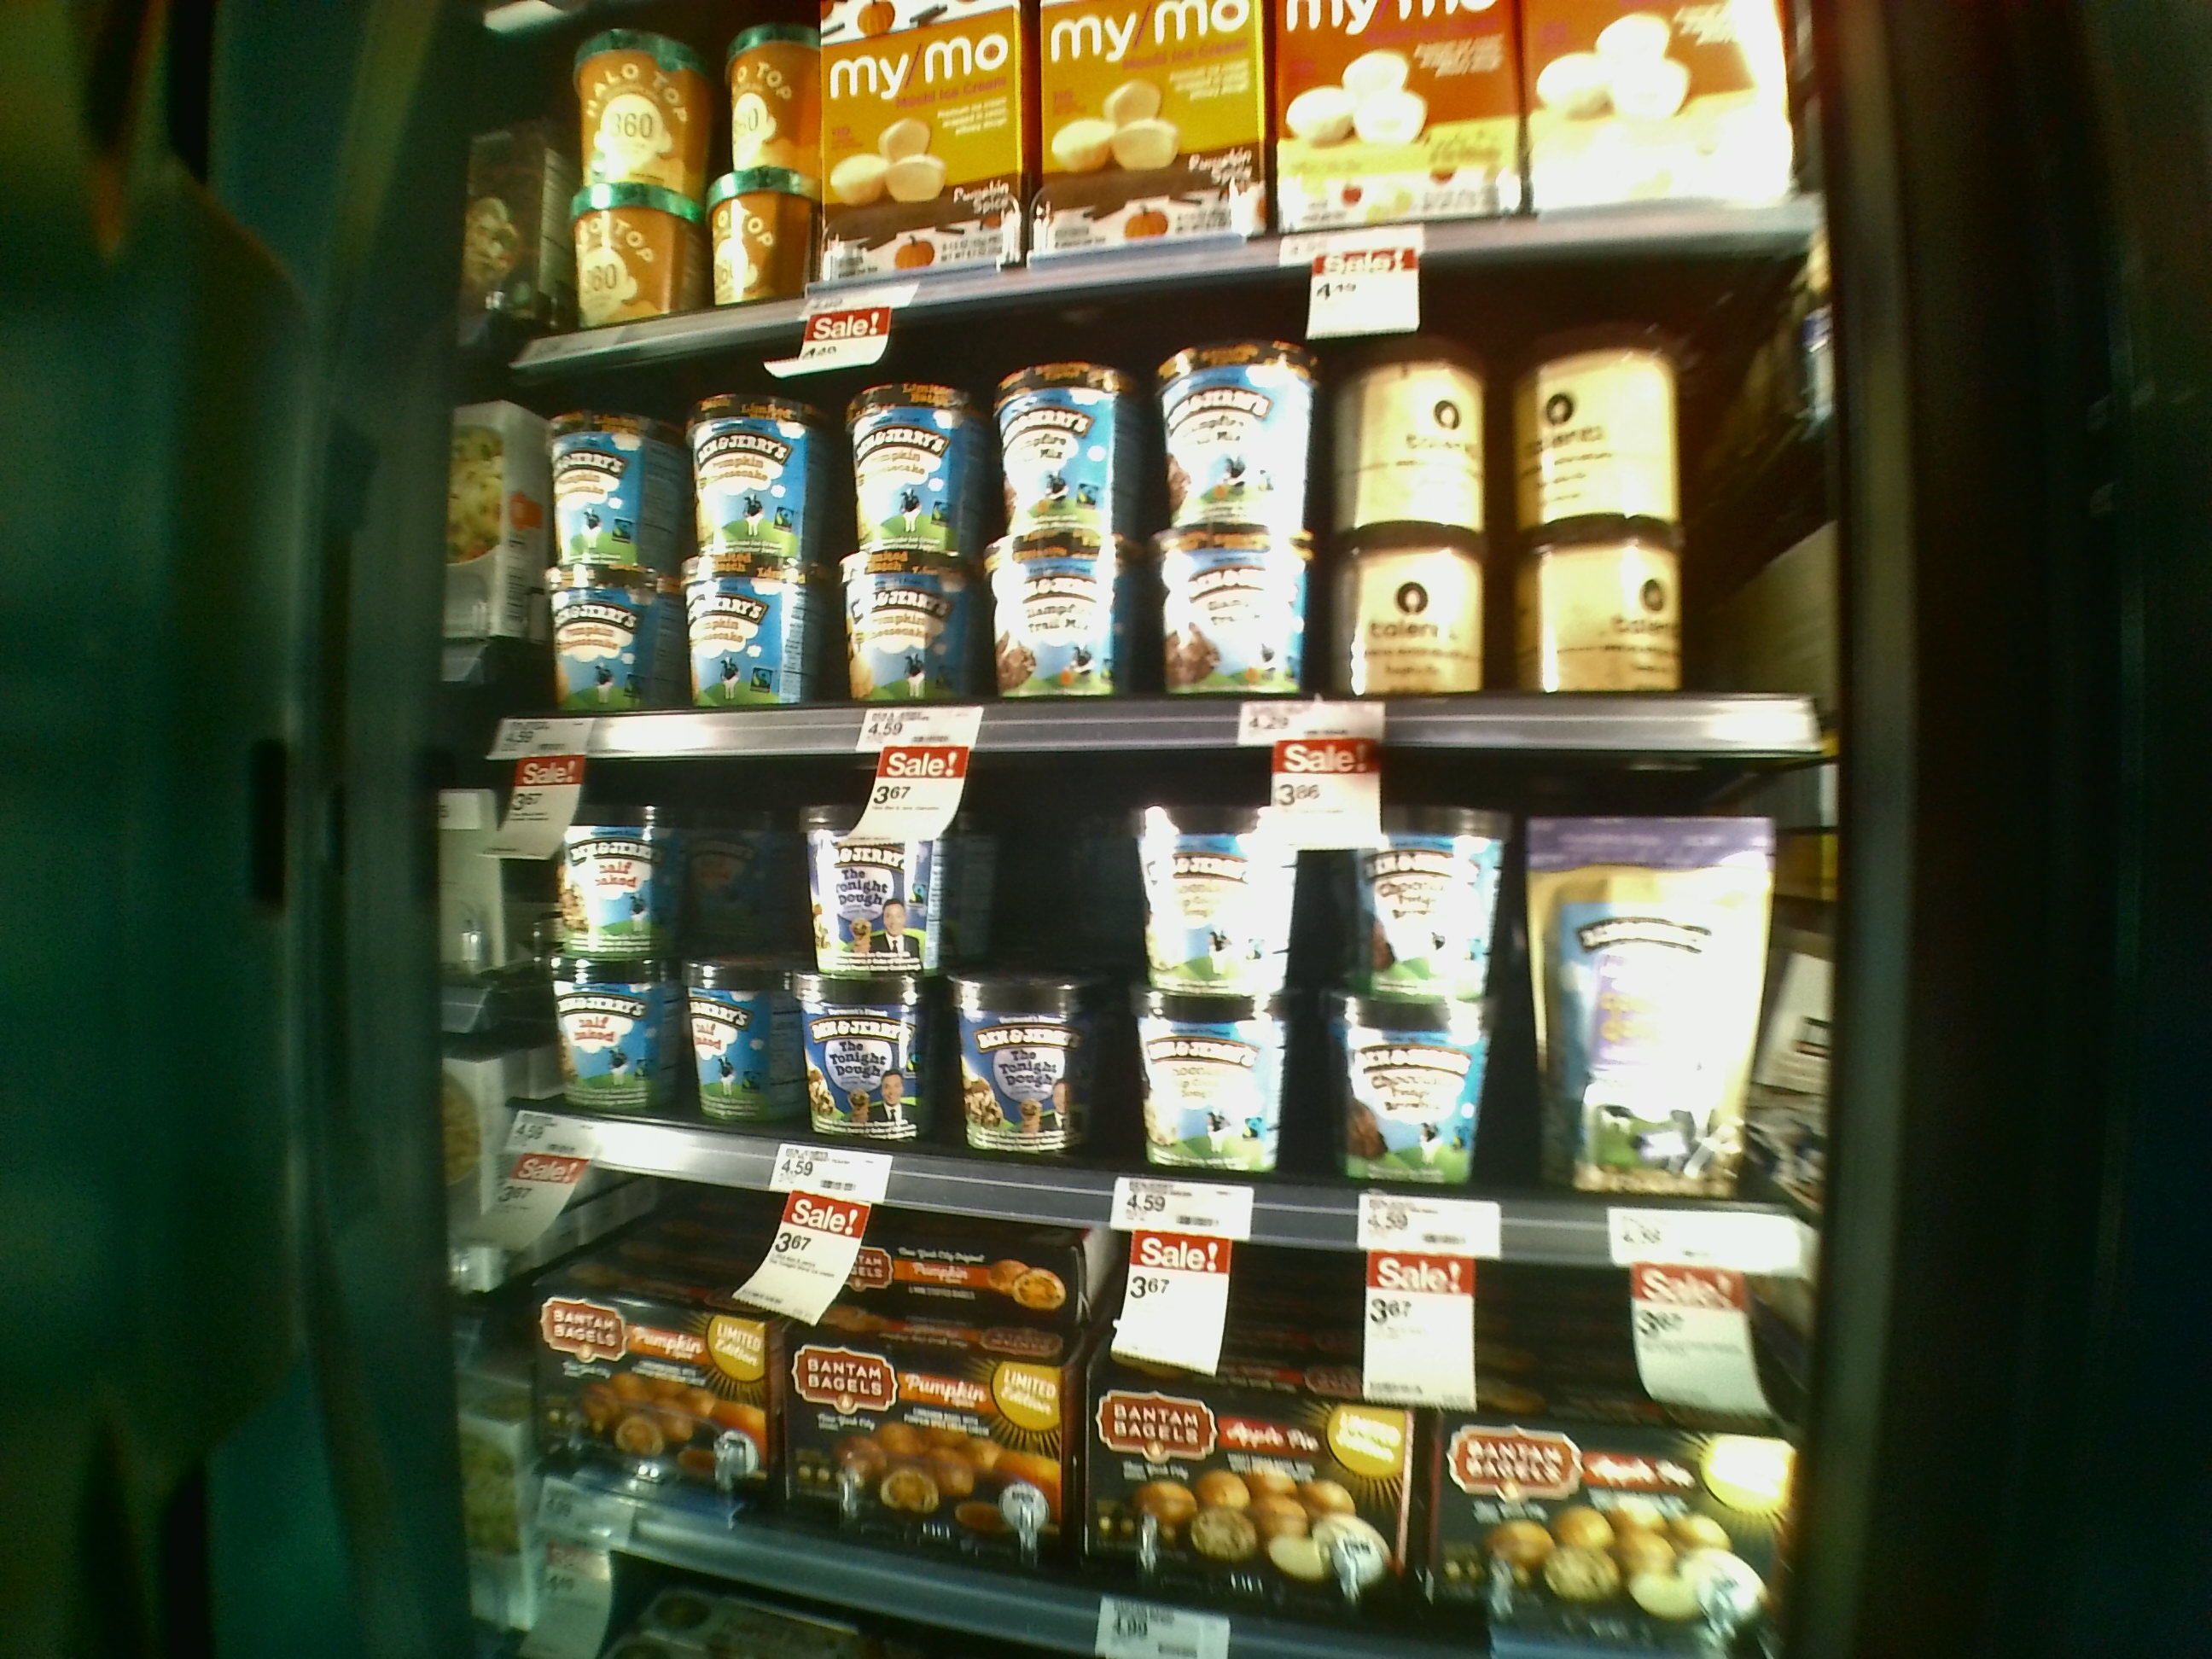shelf: (503, 718, 1797, 1272), (505, 268, 1785, 732)
